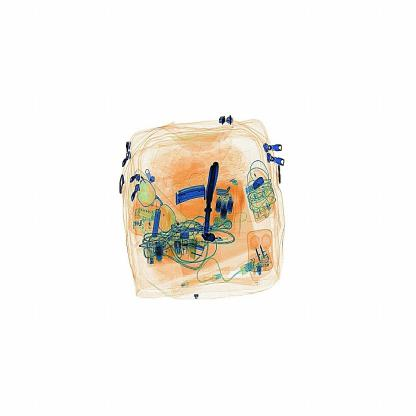gun: (194, 141, 222, 249)
